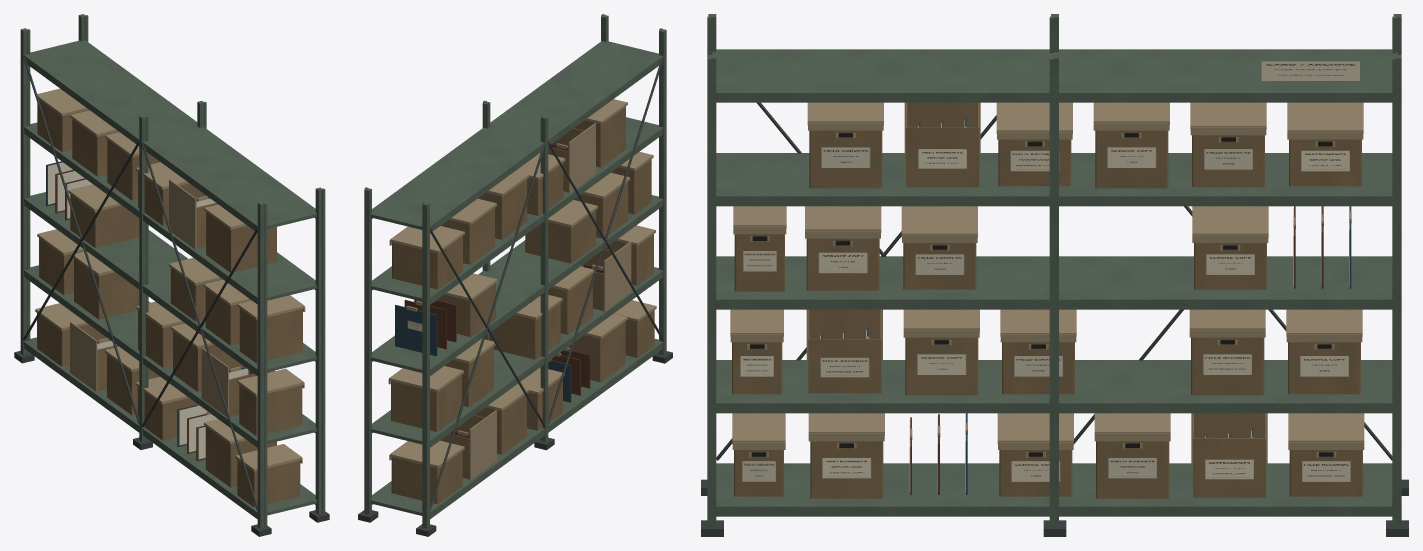
The model's file is SM_ArchiveProps_ShelvingStorage_LOD1.glb.
3 views of the same model, side by side, from view 1: azimuth 30°, elevation 25°; view 2: azimuth 150°, elevation 25°; view 3: azimuth 270°, elevation 25° (orthographic). The views are drawn at different scales.
Parts seen in each view (by area): view 1: SM_ArchiveProps_ShelvingStorage_LOD1; view 2: SM_ArchiveProps_ShelvingStorage_LOD1; view 3: SM_ArchiveProps_ShelvingStorage_LOD1.
Part boxes in pixels (x1,y1,x2,y2): SM_ArchiveProps_ShelvingStorage_LOD1: (14, 14, 329, 536); SM_ArchiveProps_ShelvingStorage_LOD1: (358, 14, 672, 536); SM_ArchiveProps_ShelvingStorage_LOD1: (701, 14, 1408, 536).
Size of the model in its own units: 0.514 by 2.3 by 3.1.
9 materials, 3 textured.
